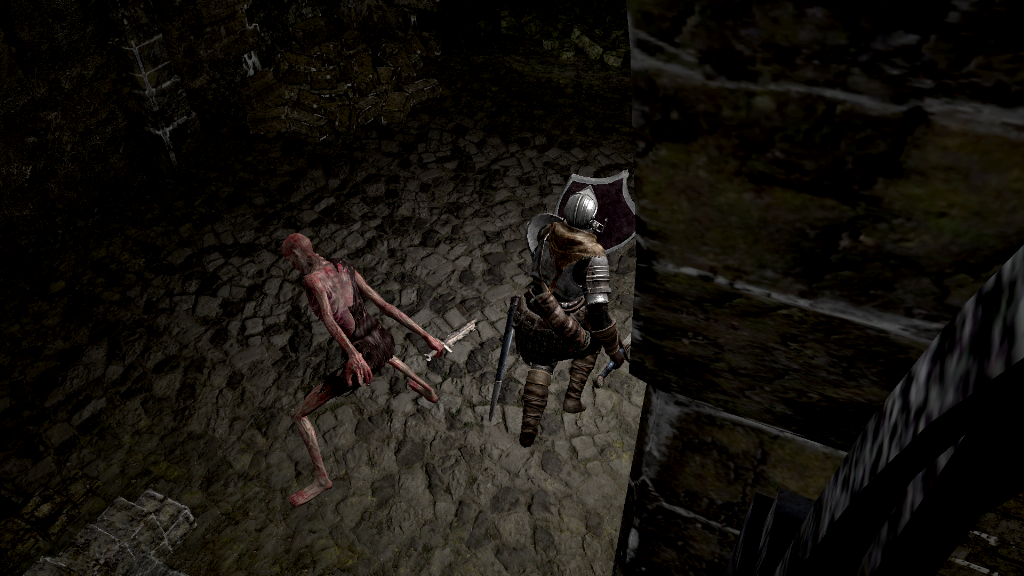hollow: (279, 230, 447, 507)
player: (514, 169, 635, 451)
